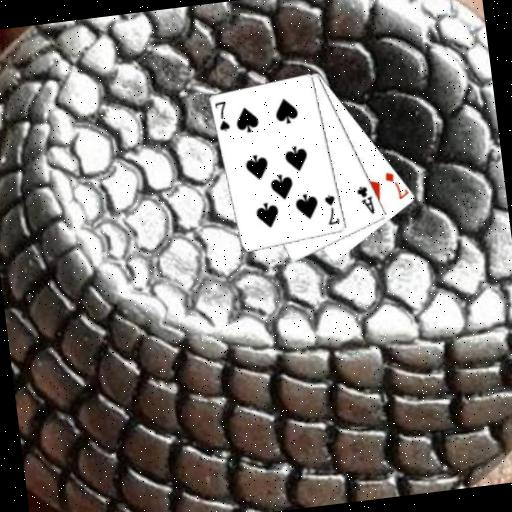7D: (382, 167, 411, 203)
7S: (321, 191, 342, 227), (212, 98, 233, 134)
AC: (353, 183, 377, 218)
